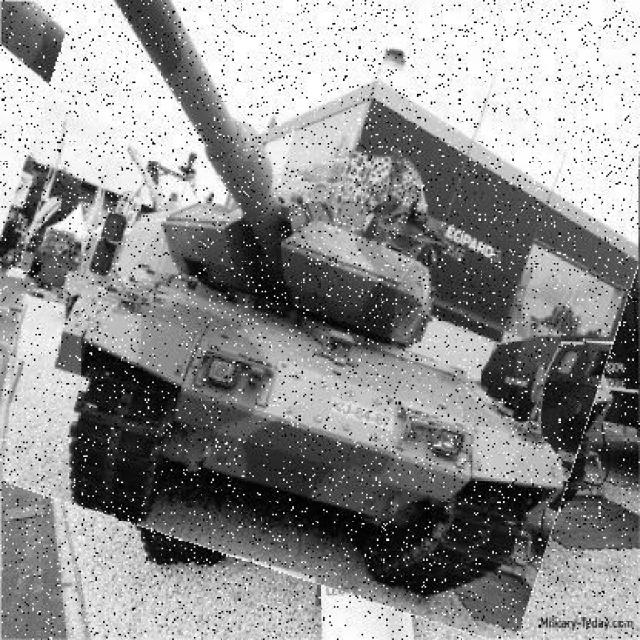Tank: (1, 1, 639, 607)
